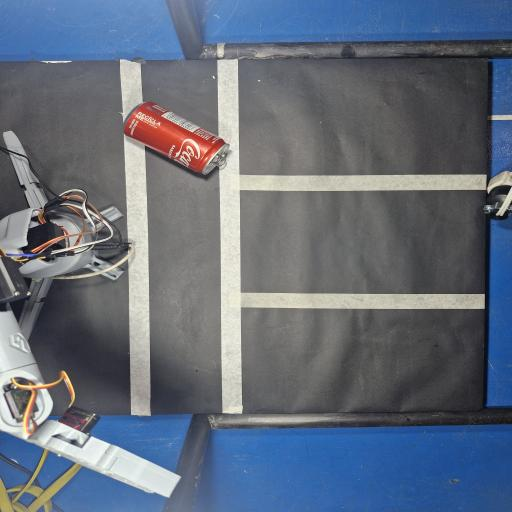lata: (124, 102, 229, 174)
